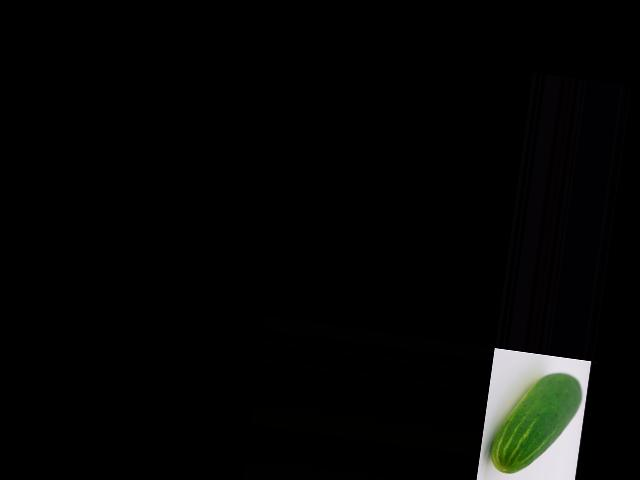cucumber: (488, 364, 584, 480)
